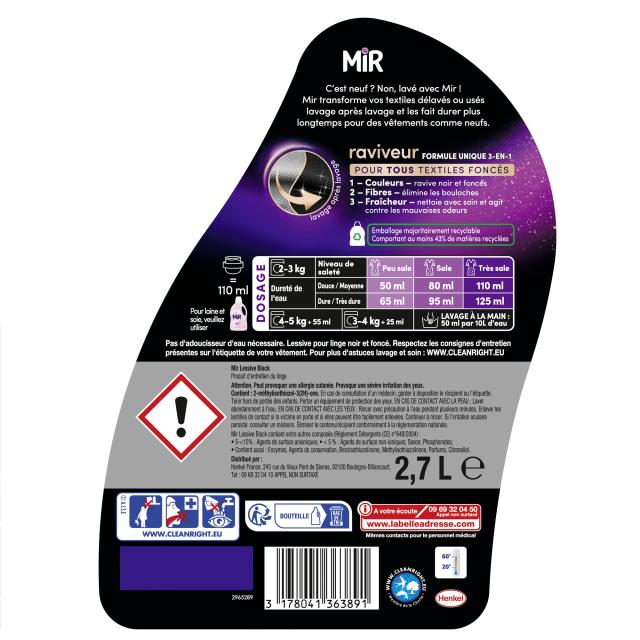GHS_Symbol_EXCLAMATION_MARK: (138, 376, 224, 459)
